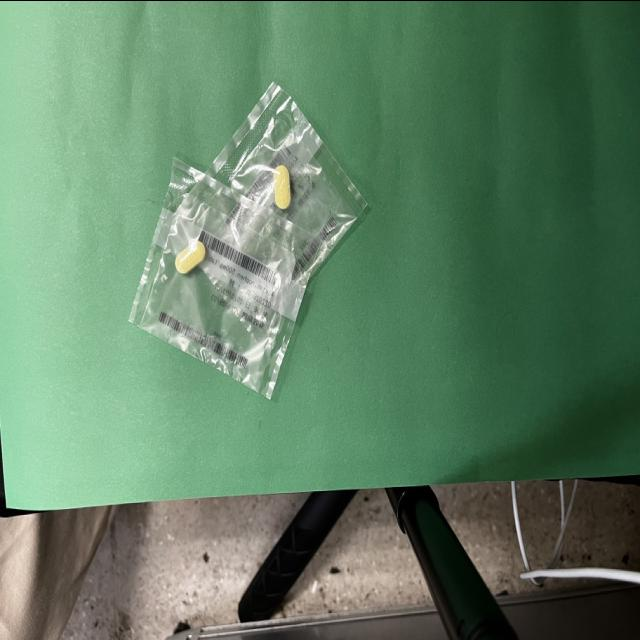Other Objects: (129, 82, 367, 398)
